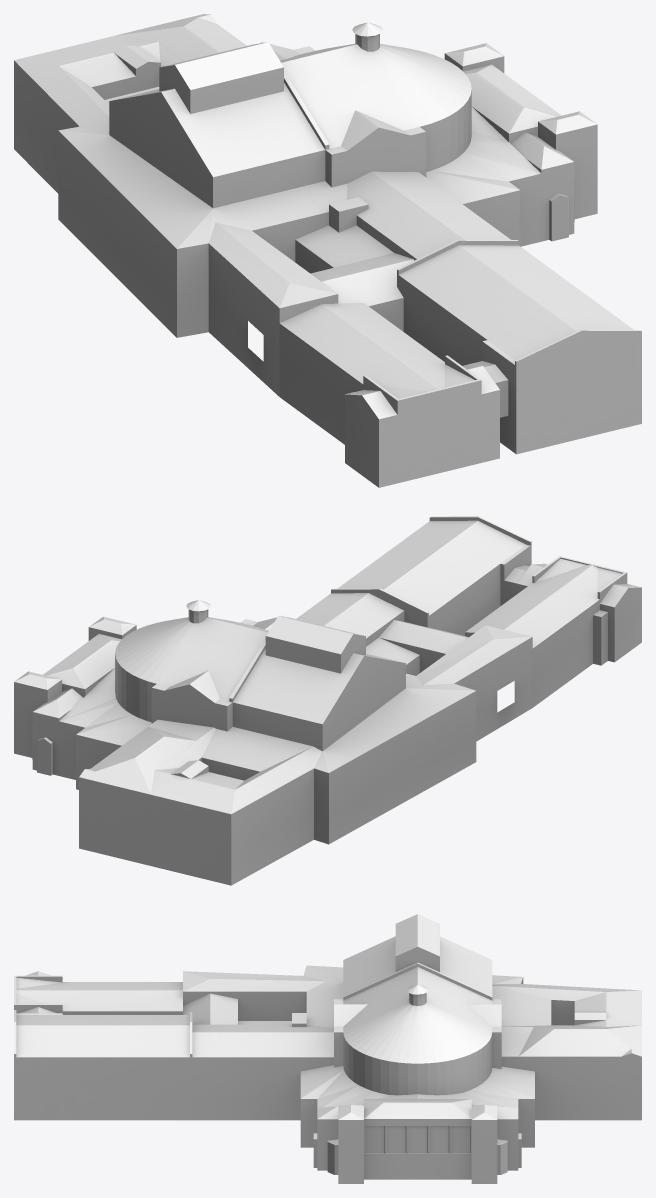
Rendered from mariinskiy1.dae.
The picture shows the model from 3 angles, top to bottom: view 1: azimuth 30°, elevation 25°; view 2: azimuth 150°, elevation 25°; view 3: azimuth 270°, elevation 25°; orthographic projection. The views are drawn at different scales.
Visible parts, largest first — view 1: mariinskiy1; view 2: mariinskiy1; view 3: mariinskiy1.
Part boxes in pixels (box(x1,y1,x2,y2)): mariinskiy1: box(14, 14, 641, 487); mariinskiy1: box(14, 516, 641, 885); mariinskiy1: box(14, 914, 641, 1183).
Bounding box in the file's own units: 0.1282 × 0.2187 × 0.0544.
Materials: 1 (1 with a texture image).
